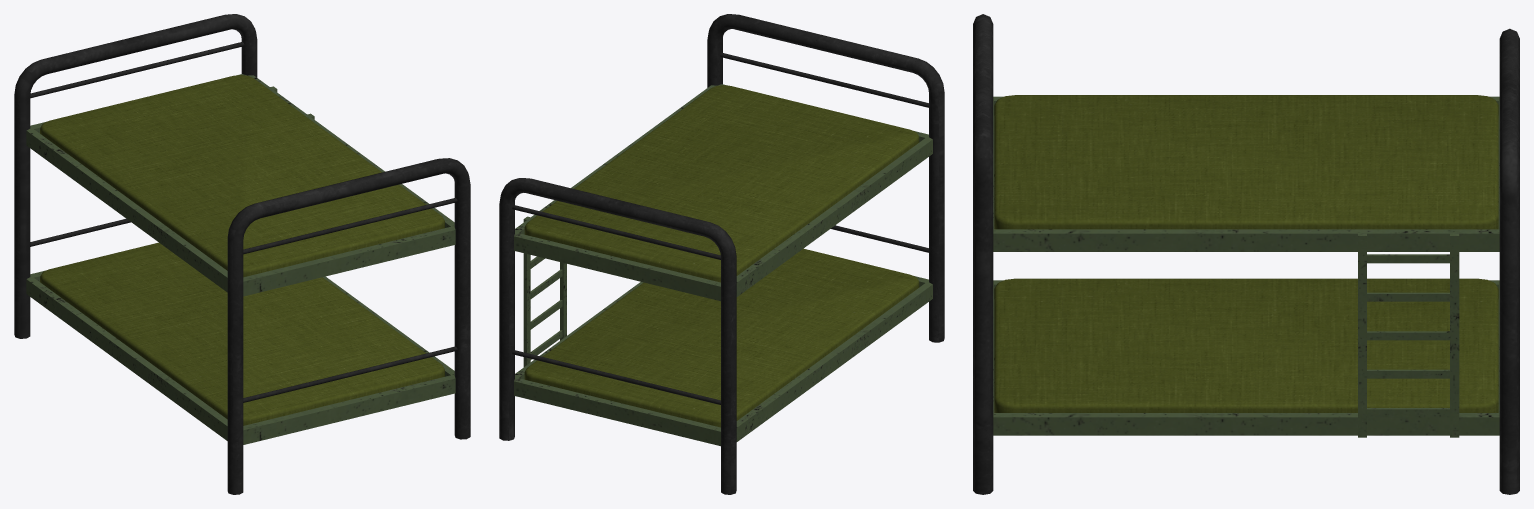
Rendered from bed.obj.
The picture shows the model from 3 angles, left to right: view 1: azimuth 30°, elevation 25°; view 2: azimuth 150°, elevation 25°; view 3: azimuth 270°, elevation 25°; orthographic projection. The views are drawn at different scales.
Parts seen in each view (by area): view 1: bed, mattress_2, mattress_1; view 2: bed, mattress_2, mattress_1; view 3: mattress_2, mattress_1, bed.
Boxes of the visible parts, x1,y1,x2,y2 form: bed: (14, 14, 470, 494); mattress_2: (40, 75, 444, 277); mattress_1: (40, 242, 444, 425); bed: (499, 14, 944, 494); mattress_2: (524, 85, 919, 282); mattress_1: (524, 248, 919, 427); mattress_2: (994, 95, 1498, 229); mattress_1: (994, 278, 1498, 412); bed: (973, 14, 1519, 494).
Bounding box in the file's own units: 1.7 × 1.9 × 2.7.
1 material, 1 textured.
